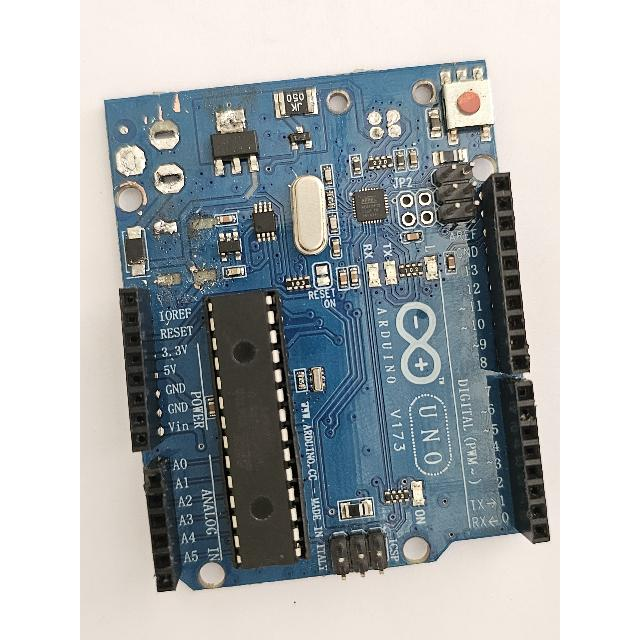missing_capacitors: (149, 213, 223, 295)
missing_eps: (128, 110, 195, 197)
missing_usb: (323, 72, 427, 152)
